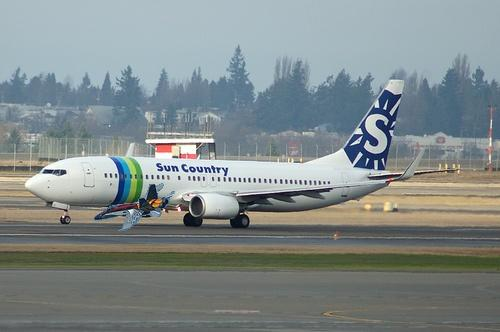tampered: (95, 184, 175, 231)
